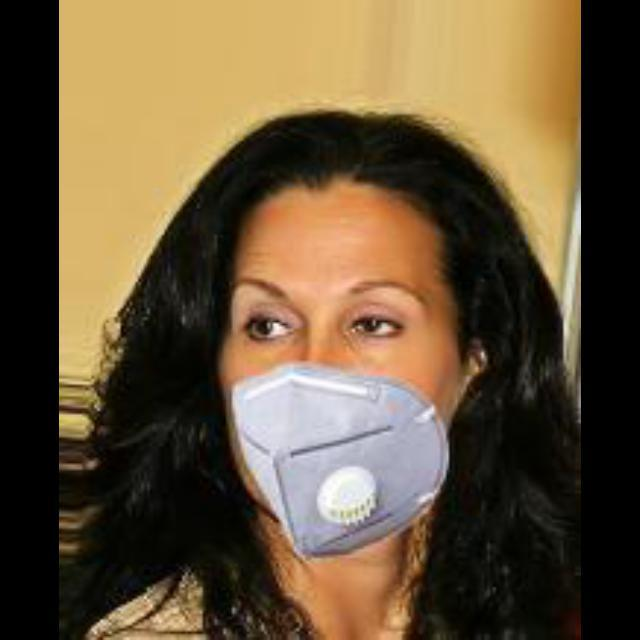suspicion: (207, 184, 471, 554)
